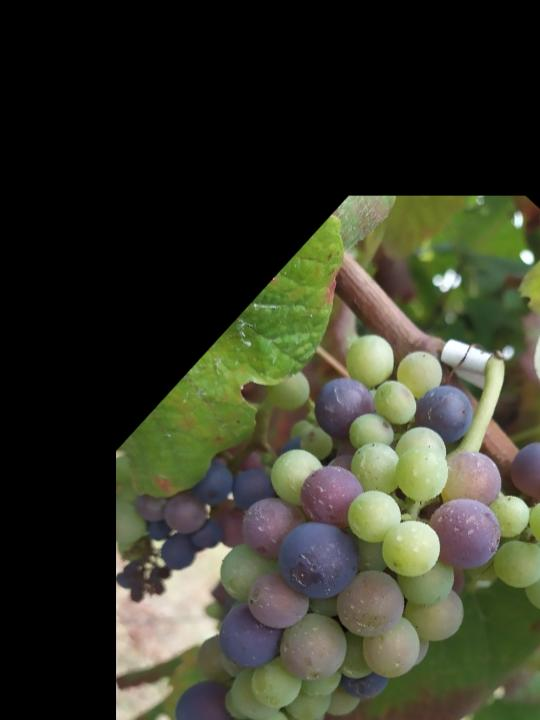grape: (53, 291, 540, 720)
